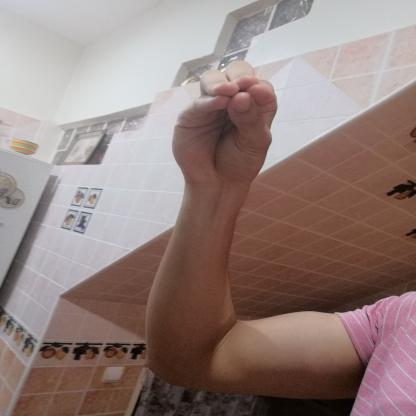HA: (149, 49, 294, 200)
